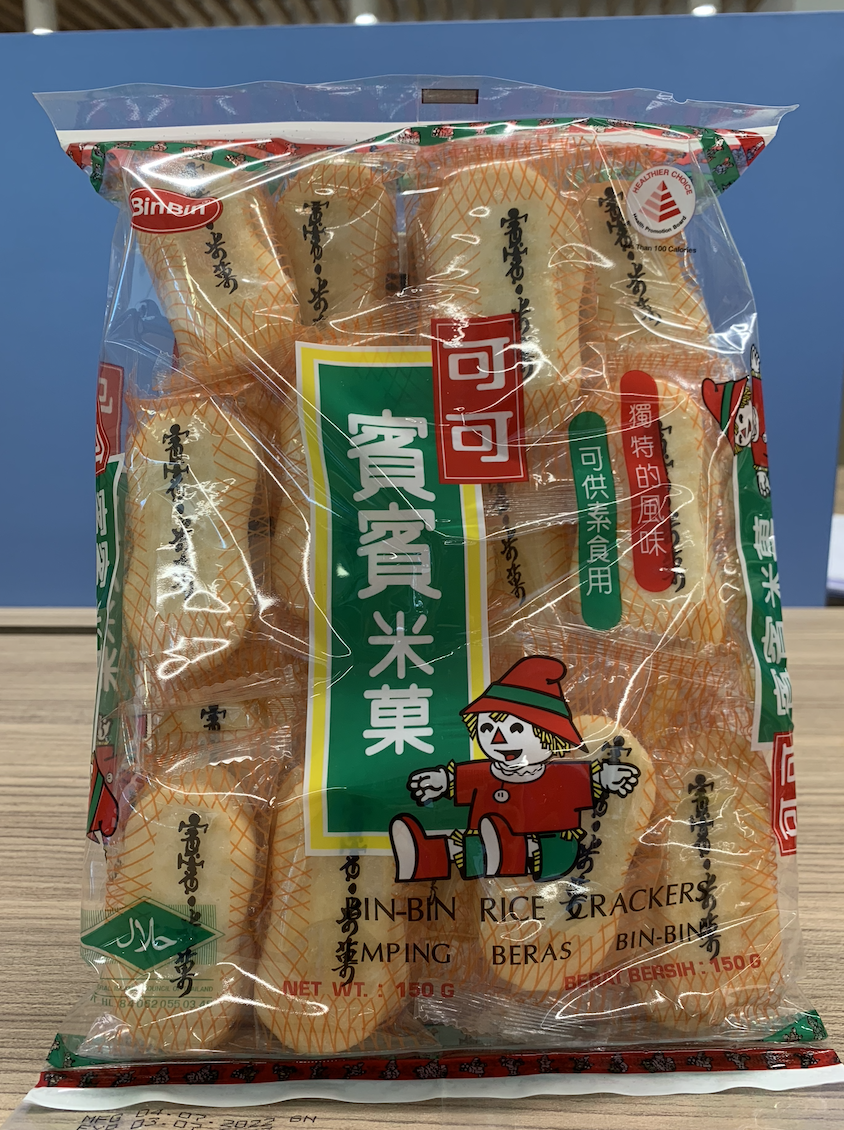crackers_150g: (106, 128, 778, 1029)
